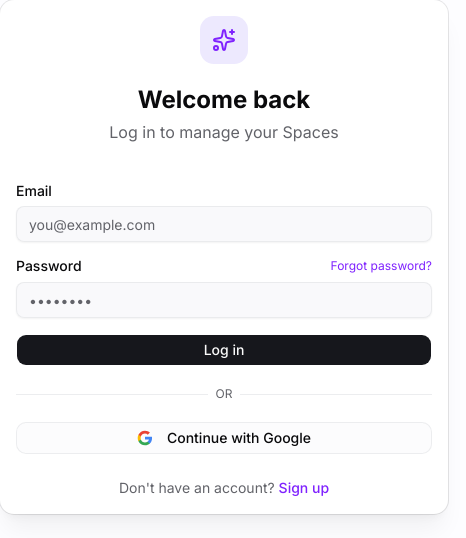
it: AuthForm › login submission › shows loading state while submitting
The image size is (466, 538).
Type "user@example.com" into the field labelled "Email" at (224, 224), box x1=16 y1=206 x2=432 y2=242
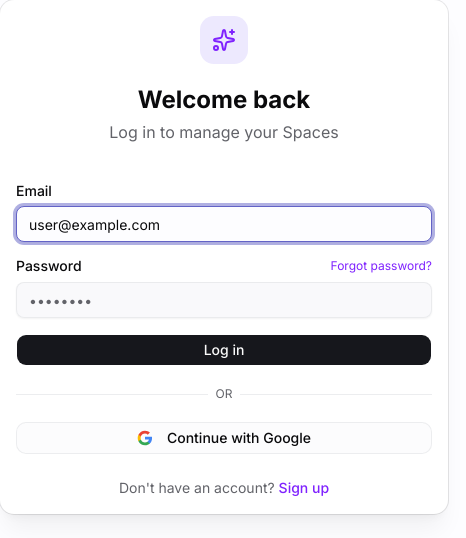
Type "password" into the password field labelled "Password" at (224, 300), box x1=16 y1=282 x2=432 y2=318
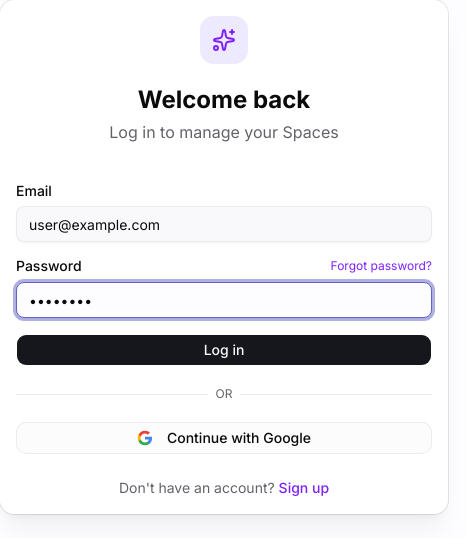
Click the button "Log in" at (224, 350), box x1=16 y1=334 x2=432 y2=366
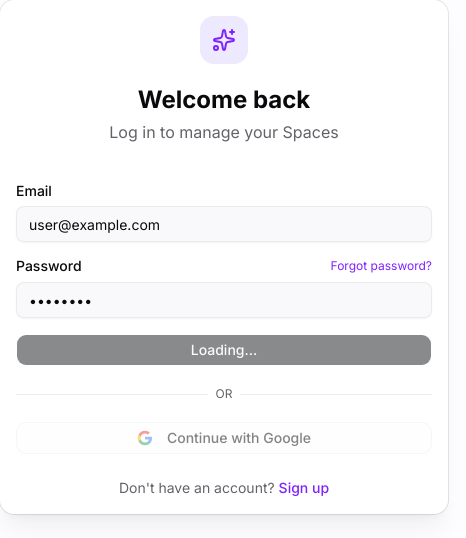
Result: the button "Loading..." is disabled at x1=16 y1=334 x2=432 y2=366
